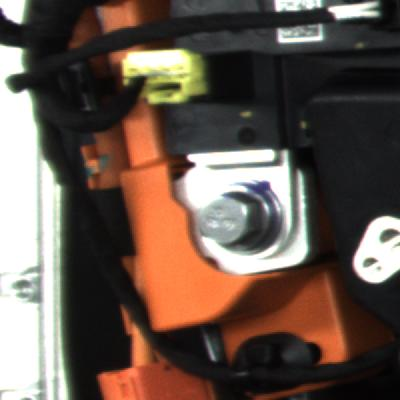nut_b: (190, 169, 304, 267)
